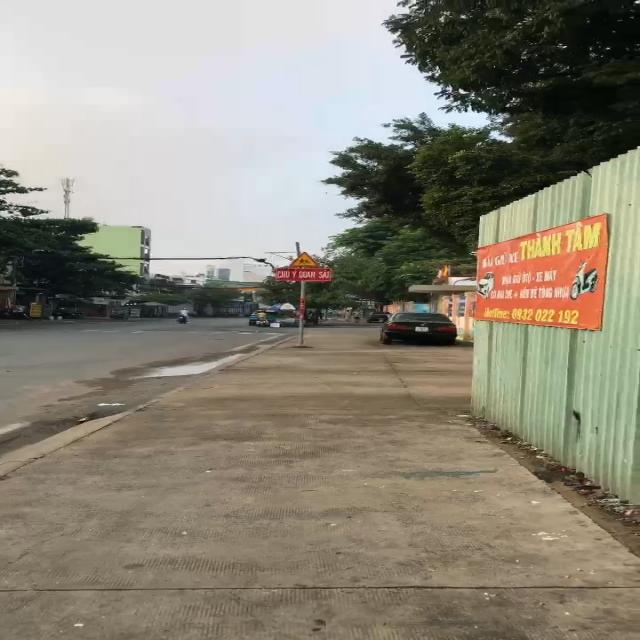Bien bao tre em: (286, 250, 323, 268)
